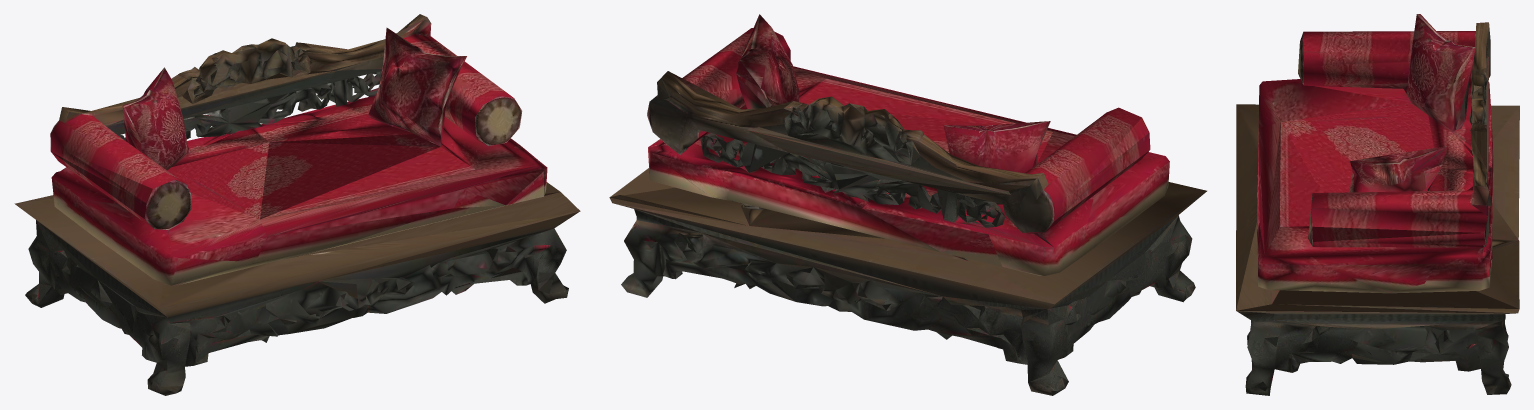
The model's file is la_divan.glb.
3 renders of one model, left to right at view 1: azimuth 30°, elevation 25°; view 2: azimuth 150°, elevation 25°; view 3: azimuth 270°, elevation 25°, orthographic. The views are drawn at different scales.
Parts seen in each view (by area): view 1: la_divan; view 2: la_divan; view 3: la_divan.
Part boxes in pixels (x1,y1,x2,y2): la_divan: (14,14,580,395); la_divan: (609,14,1206,395); la_divan: (1236,14,1519,395).
Size of the model in its own units: 2.2 by 1.08 by 1.31.
1 material, 1 textured.
